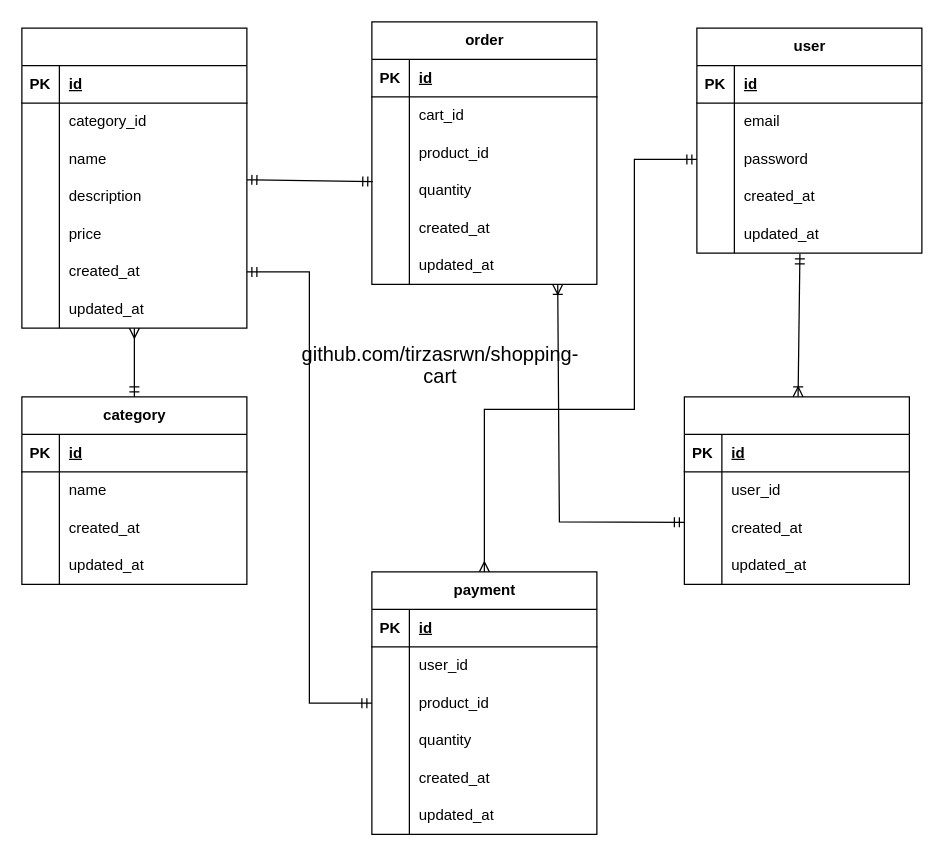
The diagram is 944 pixels wide and 856 high, and some of its shapes have lost their labels. Here are the shapes that lost their labels. From the top down, the box of each, then its label:
(21, 27, 247, 328): product
(683, 396, 909, 584): cart
